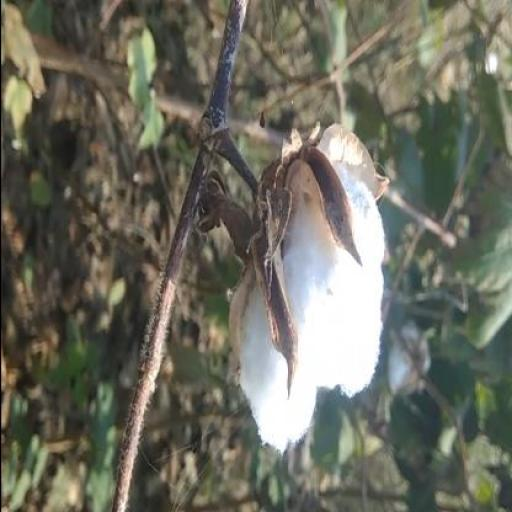cotton_ready: (138, 101, 411, 460)
